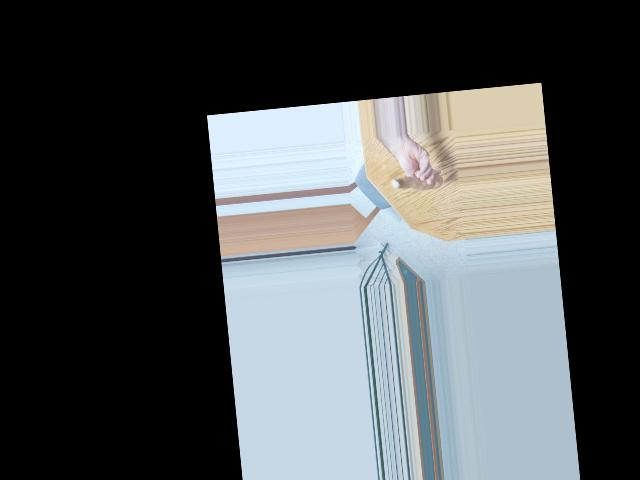sweet_potato: (389, 168, 441, 193)
